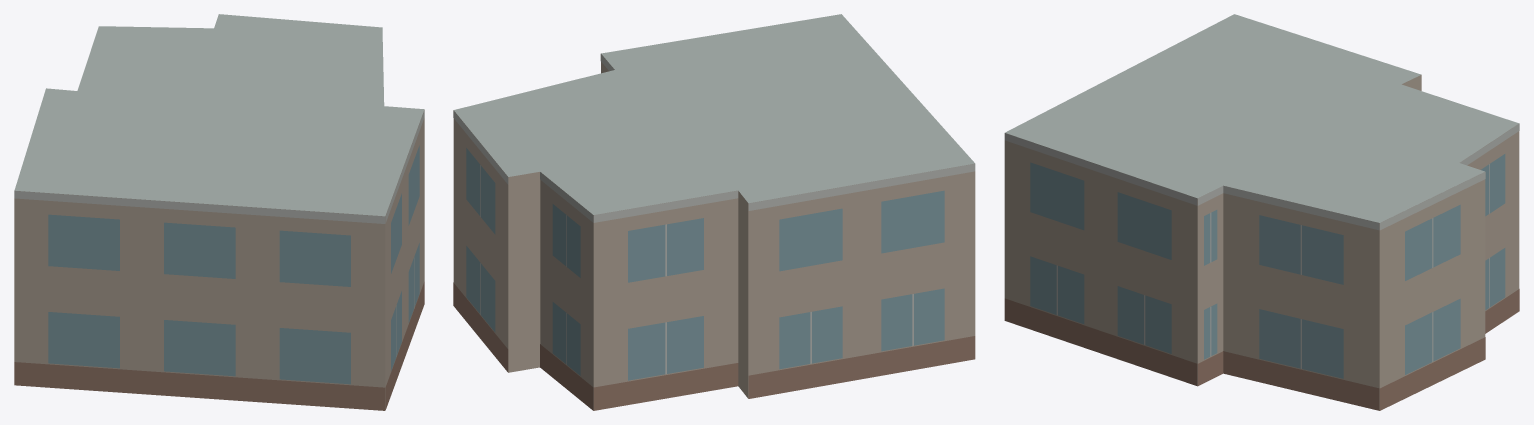
File: survey-upis-32692694.glb
3 views of the same model, side by side, from view 1: azimuth 30°, elevation 25°; view 2: azimuth 150°, elevation 25°; view 3: azimuth 270°, elevation 25° (orthographic). The views are drawn at different scales.
Visible parts, largest first — view 1: survey-upis-32692694.tmp; view 2: survey-upis-32692694.tmp; view 3: survey-upis-32692694.tmp.
Part boxes in pixels (<box>): survey-upis-32692694.tmp: <box>14,14,424,410</box>; survey-upis-32692694.tmp: <box>453,14,975,410</box>; survey-upis-32692694.tmp: <box>1004,14,1519,410</box>.
Size of the model in its own units: 14.56 by 6.1 by 15.15.
